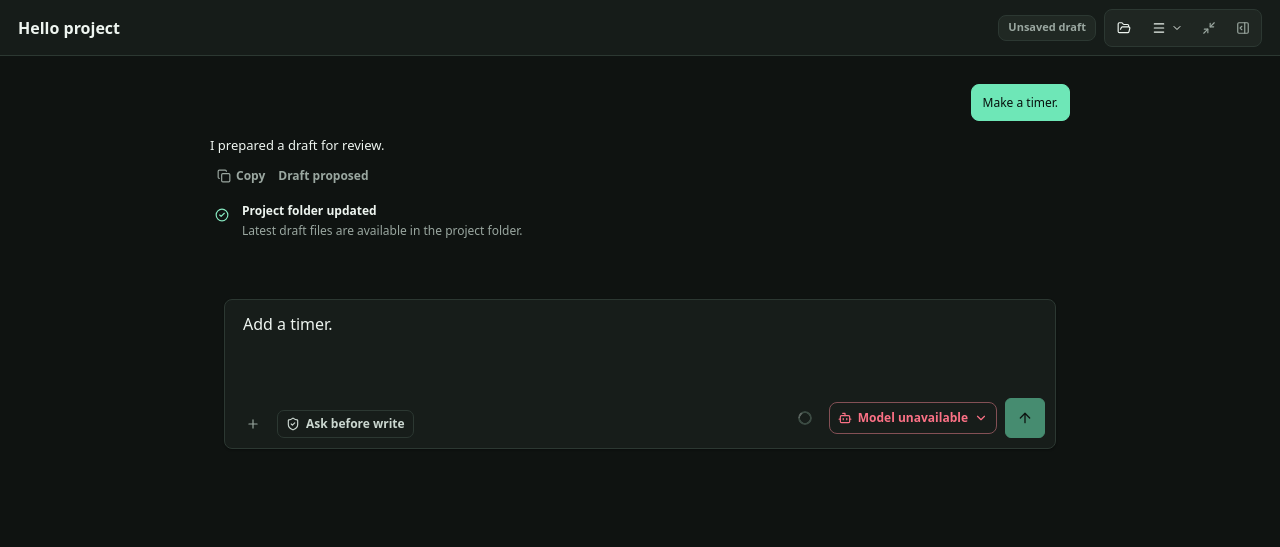
Test case: BuilderPage v2 › opens a read-only permissions artifact tab without exposing authority internals
This screenshot has width=1280, height=547.
What coordinates should you click on to do the following:
click the button named "Workspace menu"
I would click on:
 (1167, 28)
Its box is top-left (1144, 12), bottom-right (1190, 42).
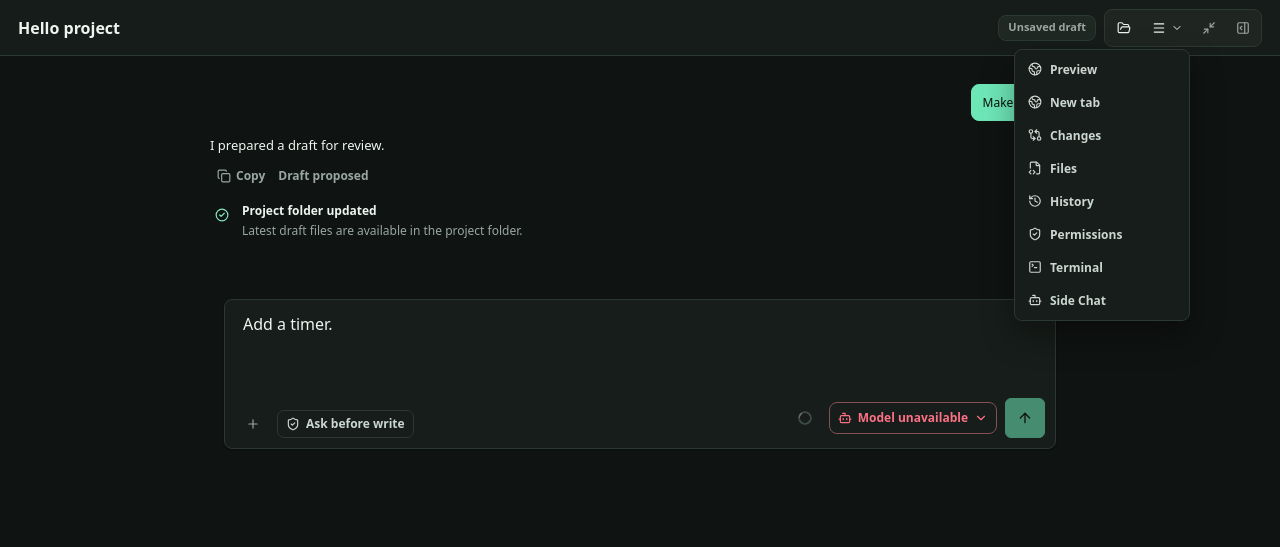
Expected: the menu item "Permissions" is shown
What coordinates should you click on to do the following:
click the menu item "Permissions"
I would click on:
 (1102, 234)
Its box is top-left (1019, 218), bottom-right (1185, 250).
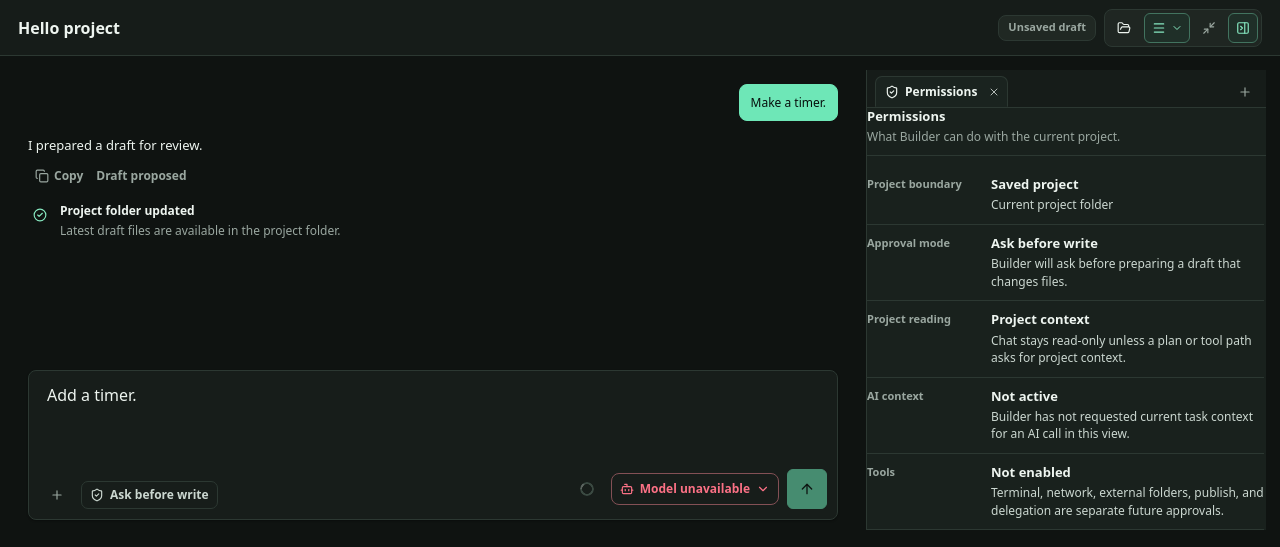
Expected: the element named "Permissions" is shown, top-left (867, 108), bottom-right (1266, 530)
Expected: the element named "Permissions" shows "Project boundary", top-left (867, 176), bottom-right (962, 191)
Expected: the element named "Permissions" shows "Saved project", top-left (991, 175), bottom-right (1079, 193)
